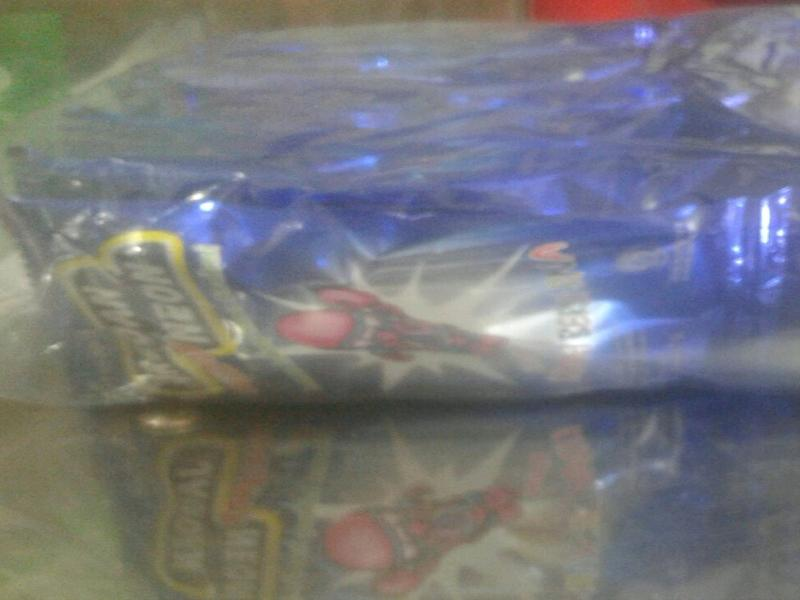jagoan_neon: (10, 192, 782, 401)
